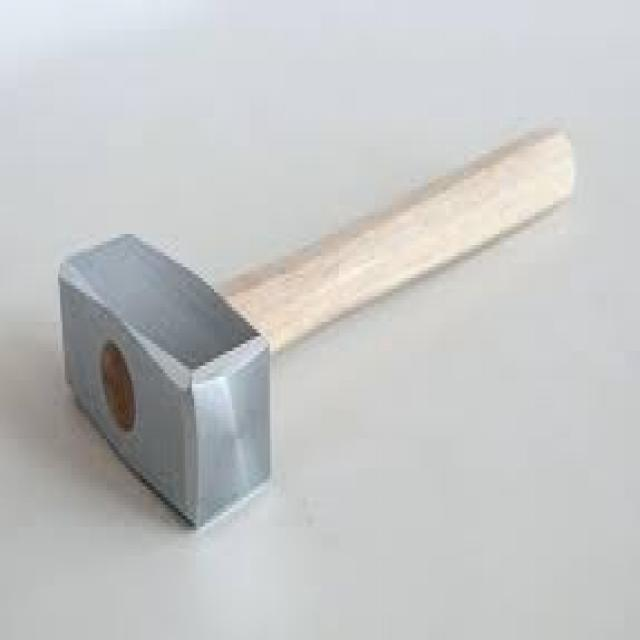hammer: (42, 118, 588, 538)
